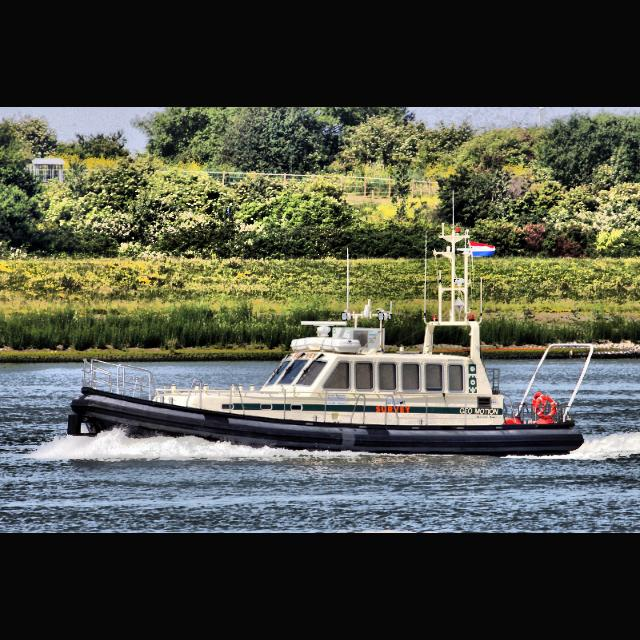patrol_vessel: (58, 219, 600, 457)
